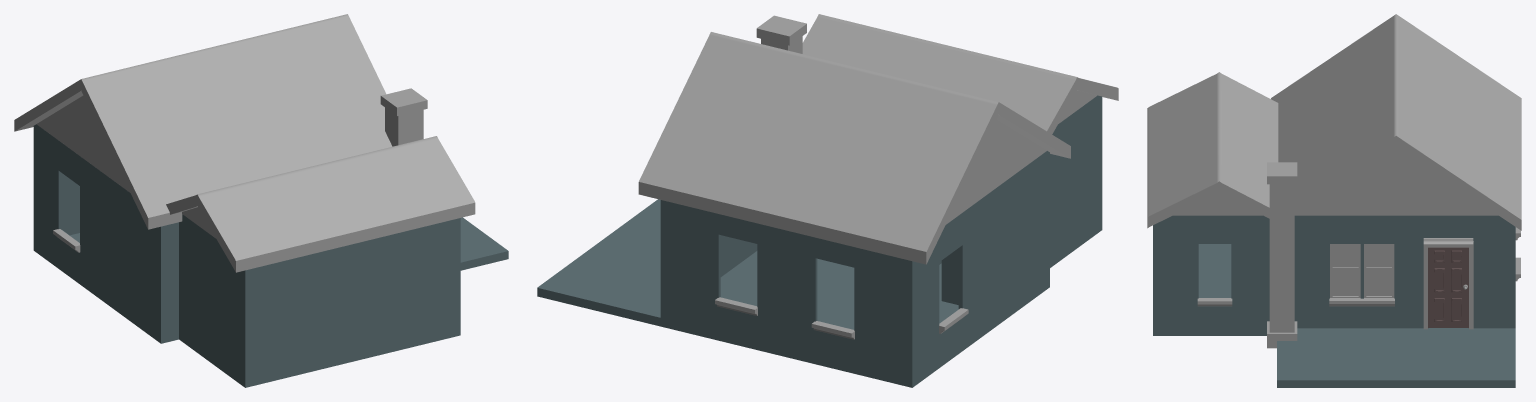
File: MyHouseBASE10.19.25.ver001.fbx
3 renders of one model, left to right at view 1: azimuth 30°, elevation 25°; view 2: azimuth 150°, elevation 25°; view 3: azimuth 270°, elevation 25°, orthographic. The views are drawn at different scales.
Parts seen in each view (by area): view 1: house, ROOF, pasted__ROOF, frontofroof, pCube1, pasted__pasted__pCube1; view 2: house, ROOF, pasted__ROOF, frontofroof, pasted__pasted__pCube1; view 3: house, ROOF, pasted__ROOF, pasted__frontofroof, pCube1, pasted__interior_door1, pCube12 (×2), pCube11 (×2), pasted__pasted__frontofroof, pCube10 (×2), pasted__pasted__pCube1, pCube3 (+4 smaller).
Part boxes in pixels (left/top/right/bottom): house: left=33, top=124, right=508, bottom=387; ROOF: left=14, top=14, right=392, bottom=229; pasted__ROOF: left=166, top=136, right=475, bottom=272; frontofroof: left=36, top=95, right=130, bottom=192; pCube1: left=385, top=107, right=423, bottom=146; pasted__pasted__pCube1: left=380, top=88, right=427, bottom=115; house: left=537, top=95, right=1102, bottom=387; ROOF: left=638, top=32, right=1070, bottom=264; pasted__ROOF: left=802, top=14, right=1118, bottom=134; frontofroof: left=946, top=120, right=1046, bottom=224; pasted__pasted__pCube1: left=756, top=15, right=806, bottom=45; house: left=1153, top=215, right=1515, bottom=387; ROOF: left=1271, top=14, right=1521, bottom=230; pasted__ROOF: left=1147, top=72, right=1278, bottom=228; pasted__frontofroof: left=1294, top=147, right=1498, bottom=215; pCube1: left=1269, top=184, right=1294, bottom=332; pasted__interior_door1: left=1428, top=247, right=1468, bottom=327; pCube12 (×2): left=1332, top=269, right=1391, bottom=295; pCube11 (×2): left=1332, top=244, right=1391, bottom=266; pasted__pasted__frontofroof: left=1173, top=192, right=1262, bottom=215; pCube10 (×2): left=1330, top=244, right=1394, bottom=297; pasted__pasted__pCube1: left=1267, top=162, right=1297, bottom=184; pCube3: left=1329, top=298, right=1394, bottom=306.
Bounding box in the file's own units: 215 × 126 × 205.
